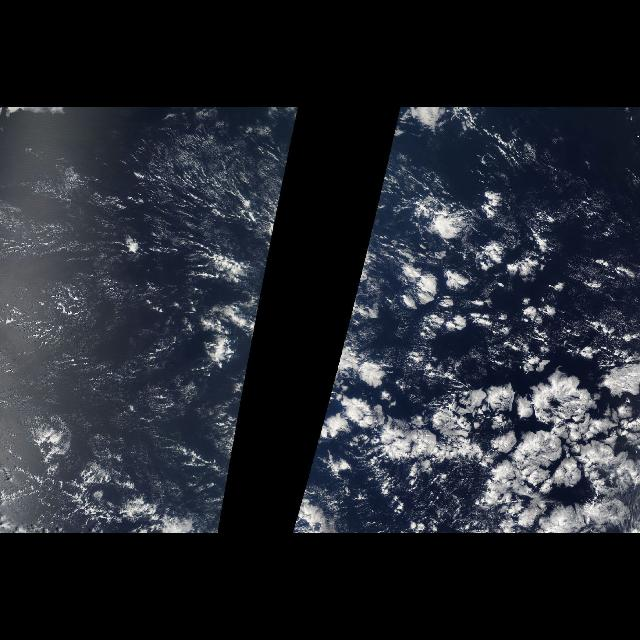Flower: (322, 167, 640, 533)
Sugar: (3, 116, 294, 424)
